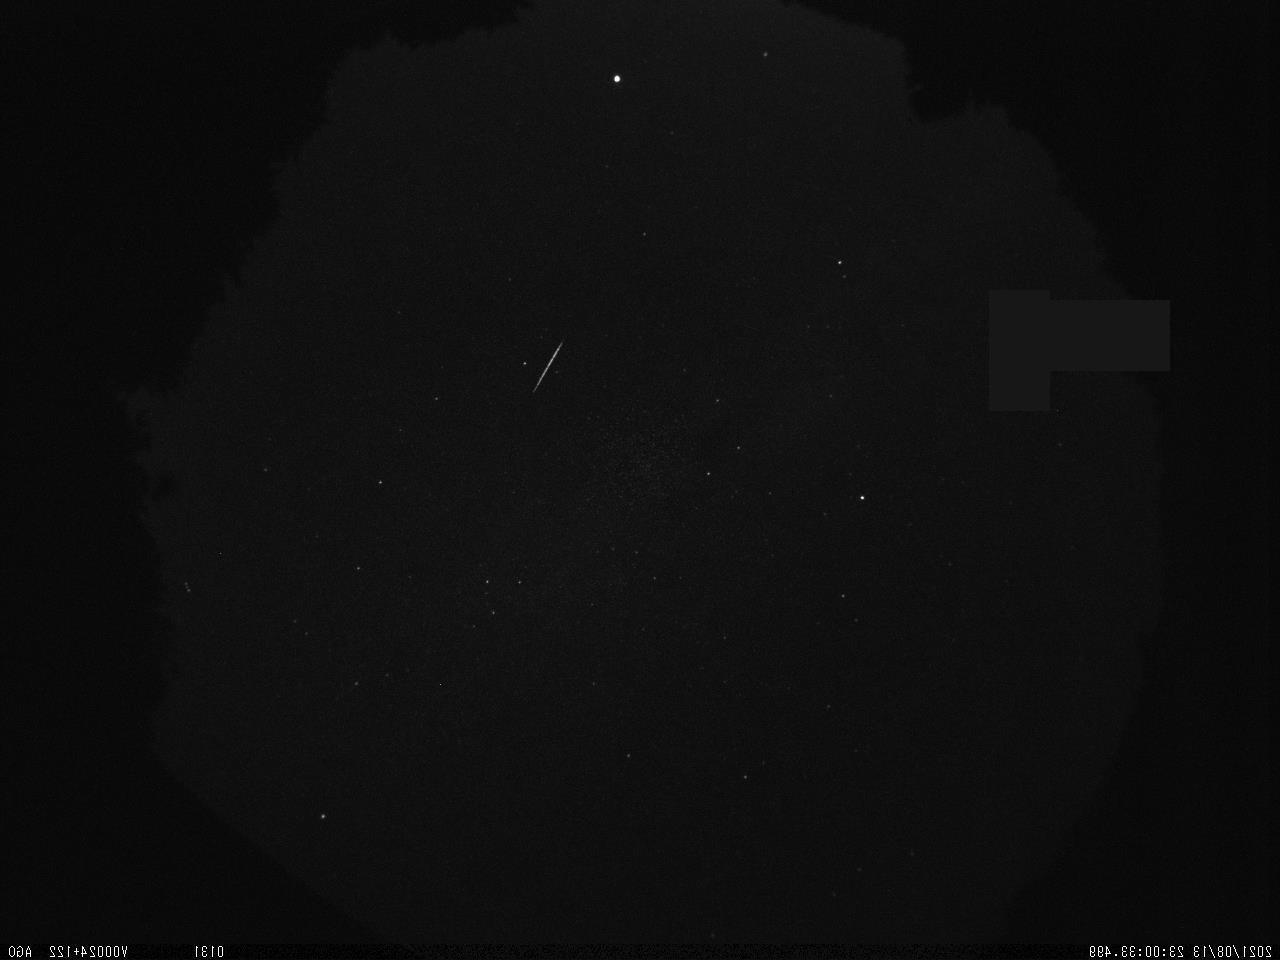meteor: (521, 333, 574, 402)
